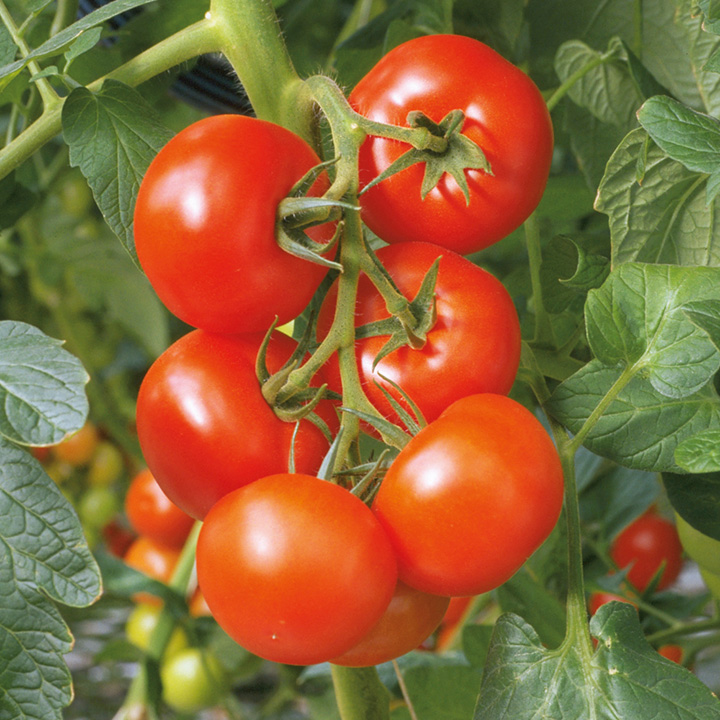stems: (271, 320, 336, 403), (360, 246, 415, 331), (280, 176, 348, 231), (355, 117, 448, 155), (359, 387, 413, 452), (329, 428, 353, 487)
tomato: (345, 34, 553, 257), (133, 115, 339, 335), (314, 243, 522, 445), (370, 391, 565, 596), (137, 328, 342, 523), (195, 471, 398, 667), (324, 578, 451, 667)
